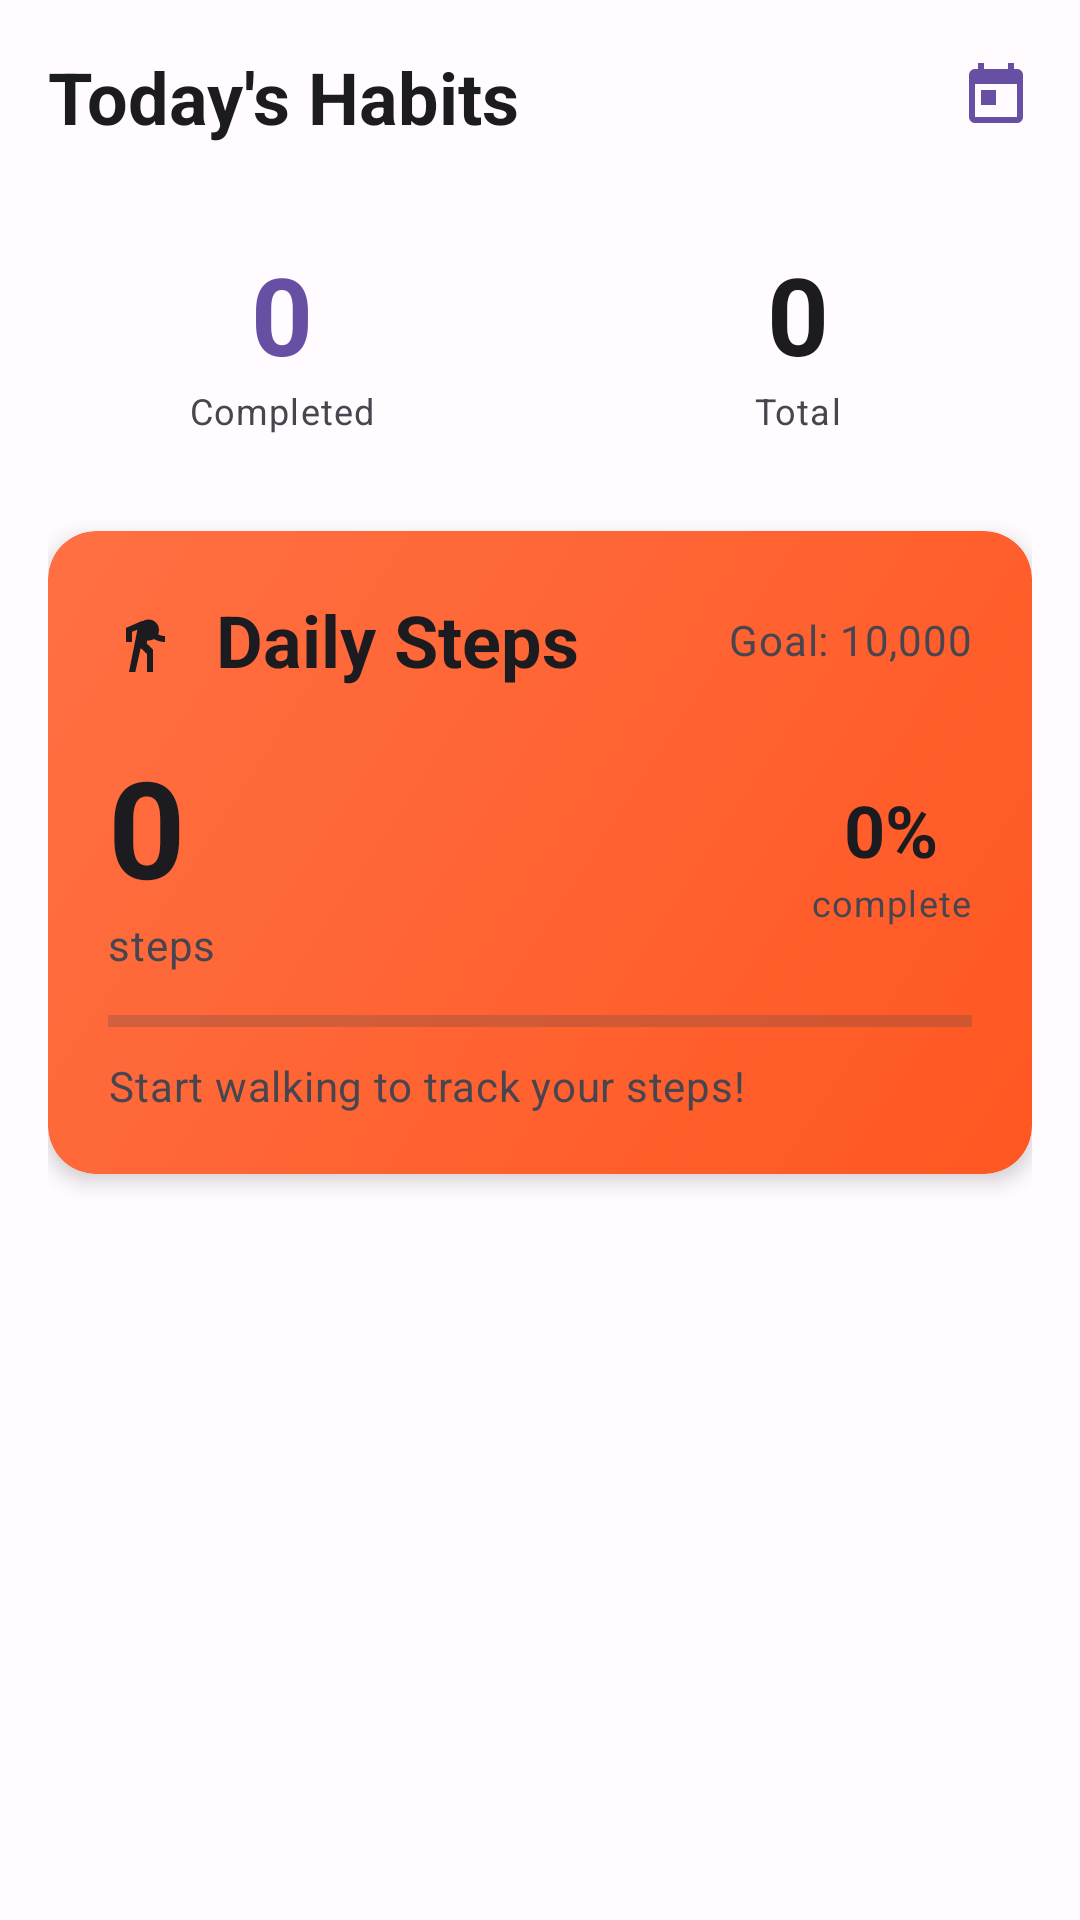

Locate icon controls on the screen. Image size 1080x1920, boxes as [x1=x1, y1=y1, x2=x2, y2=y2].
calendar today: [x1=969, y1=63, x2=1023, y2=123]
directions walk: [x1=126, y1=619, x2=165, y2=672]
